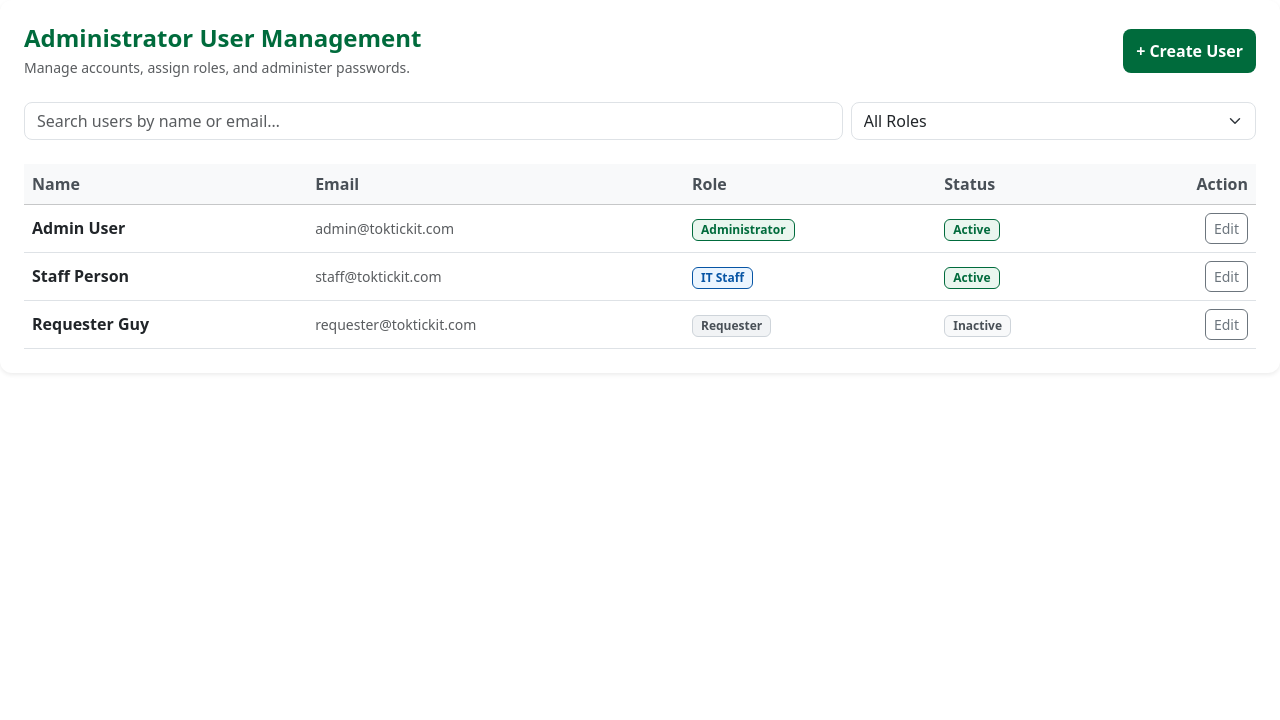
Scenario: UserManagement Component (Lab 3) › Create User Panel › UI-06: duplicate-email server error renders inline under Email field, not as a generic toast only (AC-11, FR-29)
This screenshot has width=1280, height=720.
expect the text "Admin User" is shown: met, box [24,204,307,252]
Click the button with test id "create-user-btn".
click(1190, 51)  # box [1123,29,1256,73]
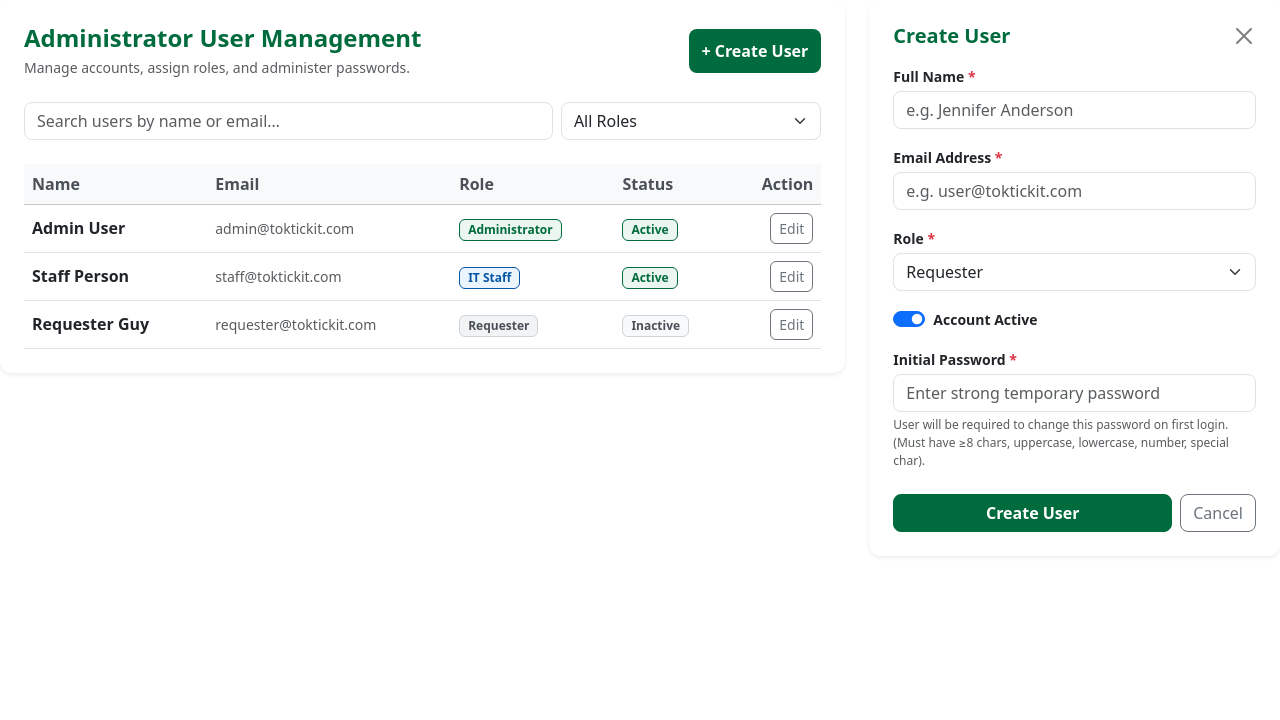
Type "Bob" into the field with test id "user-name-input".
click(1075, 110); type("Bob")  # box [893,91,1256,129]
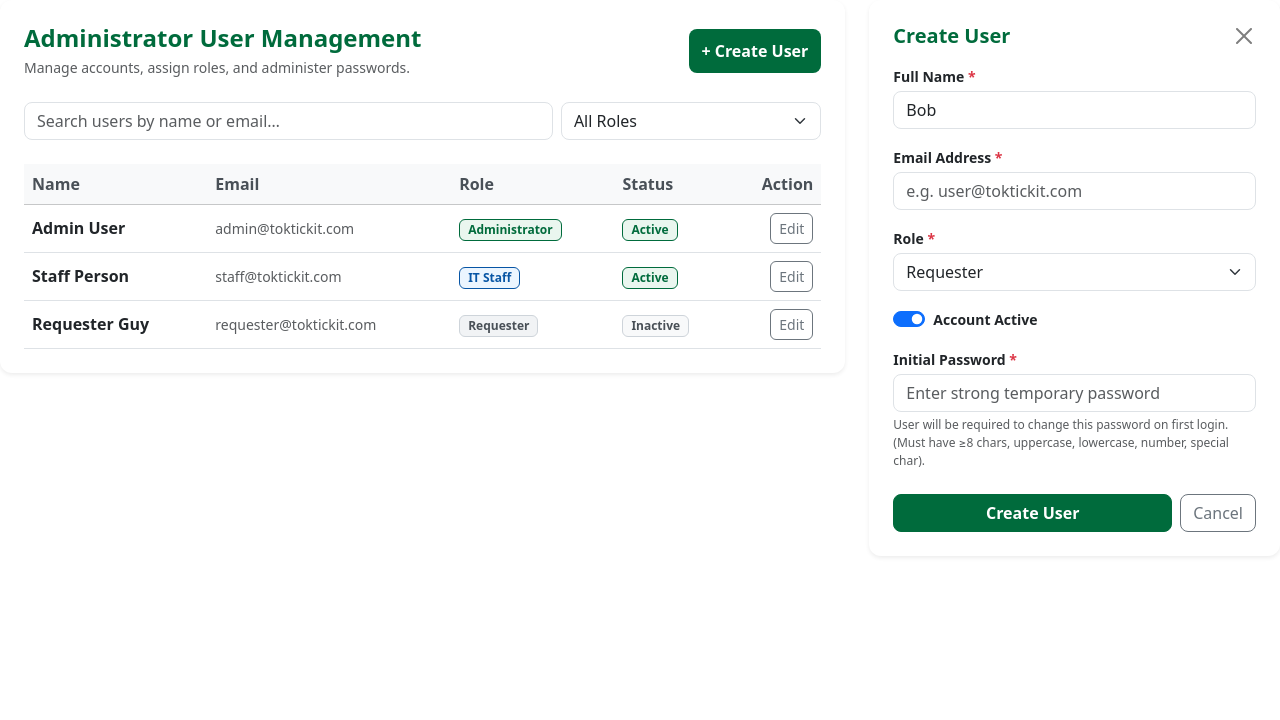
Type "existing@toktickit.com" into the field with test id "user-email-input".
click(1075, 191); type("existing@toktickit.com")  # box [893,172,1256,210]
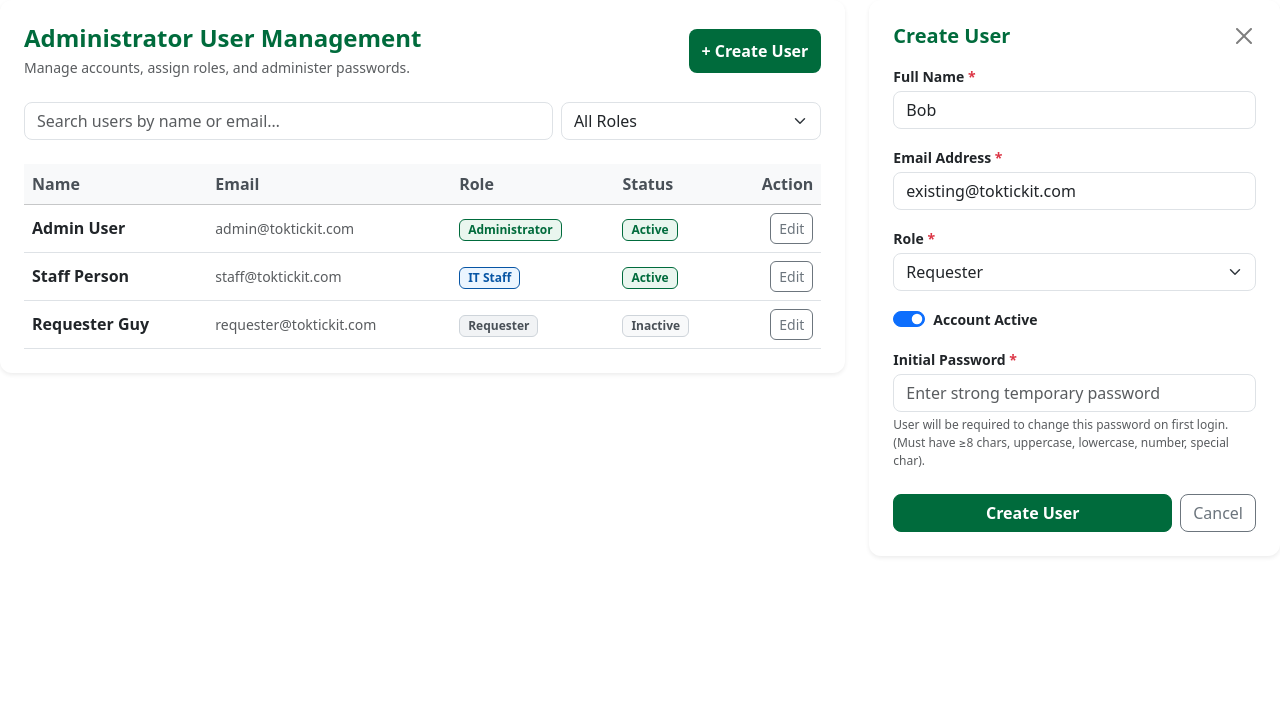
Type "Str0ng!Pass1" into the password field with test id "user-password-input".
click(1075, 393); type("Str0ng!Pass1")  # box [893,374,1256,412]
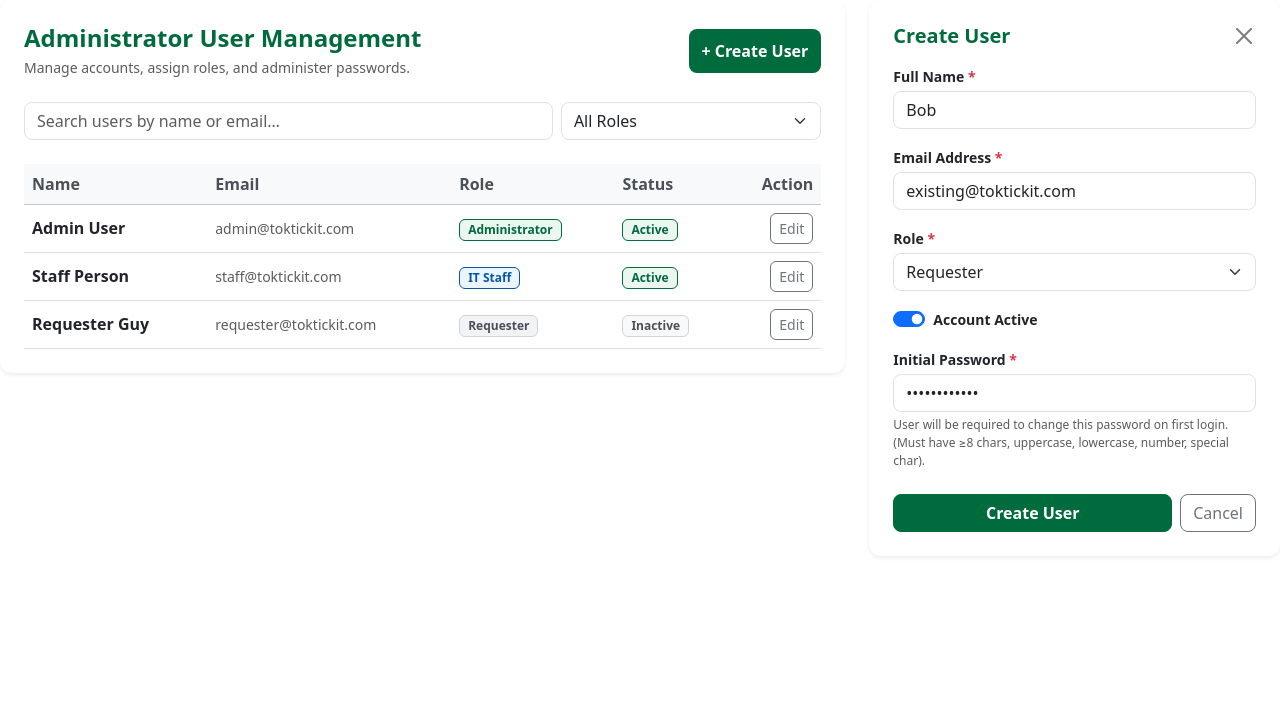
Click the button with test id "save-user-btn".
click(1033, 513)  # box [893,494,1172,532]
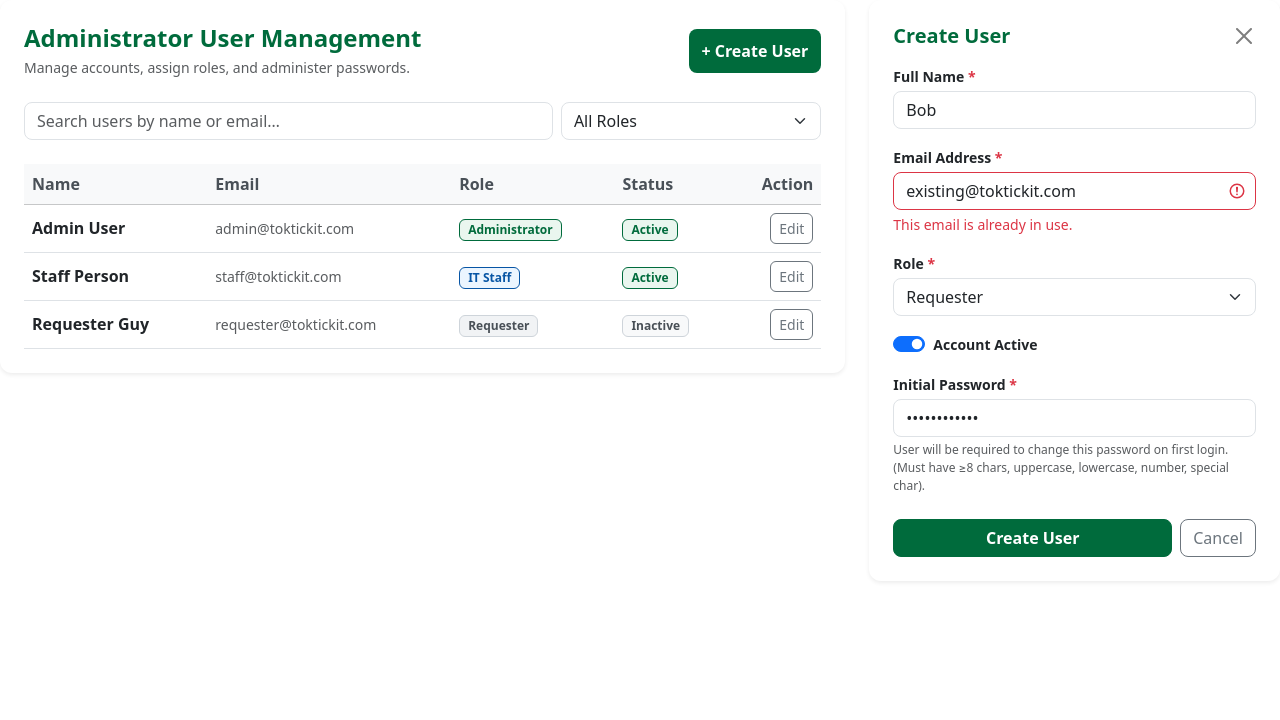
expect the text with test id "email-error" shows "already in use": met, box [893,215,1072,234]
